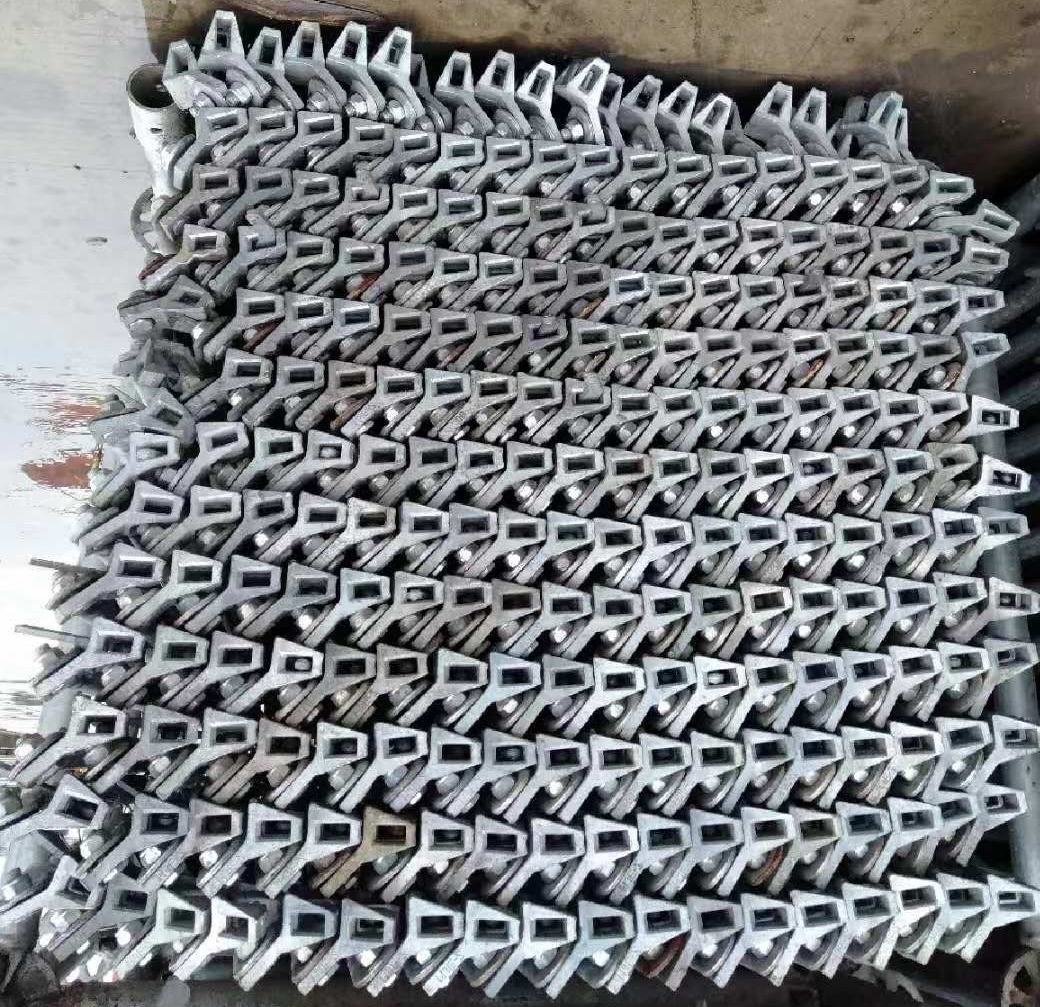sigma_steel: (38, 774, 106, 833), (457, 899, 522, 955), (984, 869, 1040, 930), (124, 798, 189, 850), (630, 898, 689, 955), (514, 902, 576, 956), (47, 857, 103, 916), (889, 873, 943, 934), (305, 802, 360, 861), (787, 890, 844, 946), (137, 388, 194, 443), (574, 901, 633, 954), (245, 801, 301, 856), (578, 814, 637, 866), (684, 900, 743, 952), (186, 798, 241, 852), (280, 892, 333, 947), (96, 875, 156, 923), (835, 800, 891, 851), (407, 898, 463, 949), (939, 874, 988, 931), (371, 641, 429, 689), (844, 883, 894, 938), (366, 806, 416, 860), (152, 623, 207, 672), (685, 810, 742, 857), (474, 817, 525, 869), (210, 897, 258, 952), (145, 705, 196, 756), (154, 890, 205, 941), (424, 811, 473, 864), (887, 798, 940, 847), (637, 814, 691, 862), (529, 819, 584, 866), (86, 621, 142, 667), (201, 9, 245, 67), (741, 808, 792, 858), (342, 899, 392, 950), (485, 652, 539, 699), (560, 53, 610, 103), (640, 731, 691, 780), (689, 732, 745, 776), (436, 648, 491, 692), (205, 709, 255, 757), (260, 717, 310, 765), (745, 899, 793, 949), (162, 274, 212, 321), (589, 733, 640, 779), (210, 630, 262, 675), (372, 23, 413, 80), (641, 515, 694, 559), (936, 716, 989, 760), (281, 19, 324, 73), (589, 658, 644, 700), (134, 479, 183, 526), (114, 544, 164, 590), (891, 722, 942, 767), (791, 726, 844, 769), (161, 36, 200, 94), (379, 721, 428, 767), (431, 729, 481, 774), (688, 586, 744, 626), (326, 18, 369, 70), (539, 654, 591, 697), (243, 22, 285, 75), (475, 46, 517, 99), (344, 497, 397, 539), (738, 582, 792, 623), (169, 553, 220, 596), (285, 563, 337, 605), (228, 558, 281, 599), (885, 576, 938, 617), (889, 644, 942, 685), (187, 486, 241, 526), (326, 641, 374, 686), (239, 489, 294, 528), (985, 639, 1040, 678), (929, 507, 980, 549), (995, 714, 1040, 761), (792, 808, 839, 853), (543, 511, 593, 553), (743, 449, 795, 489), (754, 79, 798, 126), (319, 724, 366, 768), (977, 508, 1030, 547), (643, 657, 696, 696), (792, 651, 845, 690), (223, 346, 272, 388), (340, 570, 389, 612), (537, 734, 587, 775), (540, 583, 591, 623), (841, 649, 892, 689), (934, 572, 987, 610), (498, 509, 548, 549), (593, 517, 643, 557), (513, 373, 564, 412), (410, 436, 456, 479), (823, 221, 871, 262), (401, 502, 449, 543), (745, 731, 793, 772), (195, 421, 248, 458), (454, 440, 503, 480), (297, 494, 346, 534), (424, 307, 474, 346), (443, 576, 493, 615), (975, 199, 1020, 242), (793, 578, 838, 621), (655, 385, 701, 427), (447, 502, 494, 543), (980, 789, 1027, 830), (647, 451, 699, 488), (879, 512, 931, 549), (235, 287, 283, 327), (741, 515, 789, 555), (358, 436, 407, 475), (282, 292, 332, 330), (692, 516, 742, 554), (748, 656, 798, 694), (932, 440, 978, 481), (494, 580, 540, 621), (596, 586, 642, 627), (473, 311, 522, 349), (602, 451, 652, 488), (515, 60, 556, 105), (570, 316, 615, 357), (623, 71, 663, 117), (847, 729, 893, 769), (323, 362, 374, 398), (189, 109, 250, 139), (436, 49, 474, 97), (557, 446, 605, 484), (286, 229, 335, 266), (467, 371, 516, 408), (254, 427, 303, 464), (742, 214, 784, 257), (373, 366, 423, 402), (661, 79, 699, 126), (382, 305, 429, 343), (385, 128, 439, 161), (614, 322, 656, 364), (826, 328, 875, 364), (783, 218, 826, 259), (785, 328, 829, 368), (837, 515, 881, 555), (507, 443, 552, 482), (738, 330, 788, 365), (958, 332, 1008, 367), (832, 451, 885, 484), (484, 192, 530, 230), (610, 385, 656, 423), (745, 389, 791, 427), (645, 587, 691, 625), (840, 582, 886, 620), (883, 450, 934, 484), (871, 225, 913, 266), (183, 220, 226, 260), (829, 274, 872, 314), (333, 299, 378, 337), (878, 392, 923, 430), (654, 328, 700, 365), (698, 450, 744, 487), (385, 241, 435, 275), (243, 165, 292, 199), (439, 188, 484, 225), (699, 388, 744, 425), (523, 139, 575, 171), (954, 289, 1006, 321), (695, 271, 741, 307), (423, 369, 469, 405), (795, 85, 828, 135), (292, 169, 339, 204), (786, 519, 833, 554), (394, 180, 437, 218), (243, 111, 297, 141), (922, 393, 967, 429), (519, 261, 568, 294), (833, 390, 879, 425), (294, 115, 344, 147), (698, 216, 739, 255), (938, 791, 979, 830), (530, 198, 573, 235), (792, 389, 836, 425), (656, 215, 697, 253), (914, 231, 956, 268), (484, 136, 531, 169), (916, 337, 959, 373), (340, 237, 384, 272), (479, 252, 523, 287), (877, 276, 916, 315), (699, 328, 739, 366), (738, 277, 785, 309), (700, 90, 733, 135), (346, 122, 395, 152), (195, 163, 237, 198), (434, 250, 476, 285), (279, 359, 321, 394), (801, 158, 848, 189), (574, 143, 619, 175), (873, 333, 913, 369), (569, 262, 610, 297), (915, 282, 956, 317), (870, 90, 901, 136), (756, 155, 805, 184), (610, 270, 651, 304), (441, 137, 485, 168), (652, 275, 694, 307), (620, 150, 666, 179), (711, 157, 757, 186), (617, 208, 655, 243), (932, 172, 974, 203), (664, 153, 712, 180), (848, 162, 892, 190), (597, 70, 624, 115), (888, 167, 929, 193)
sigma_steel_blocked: (73, 696, 126, 749), (480, 728, 538, 775), (987, 575, 1040, 621), (271, 638, 322, 685), (695, 656, 748, 698), (965, 397, 1017, 439), (981, 458, 1032, 500), (939, 641, 989, 683), (237, 224, 285, 263), (565, 377, 611, 417), (793, 448, 839, 488), (308, 431, 351, 472), (397, 575, 443, 613), (344, 177, 392, 213), (520, 315, 566, 351), (965, 242, 1009, 279), (574, 203, 615, 240), (784, 277, 828, 310)
